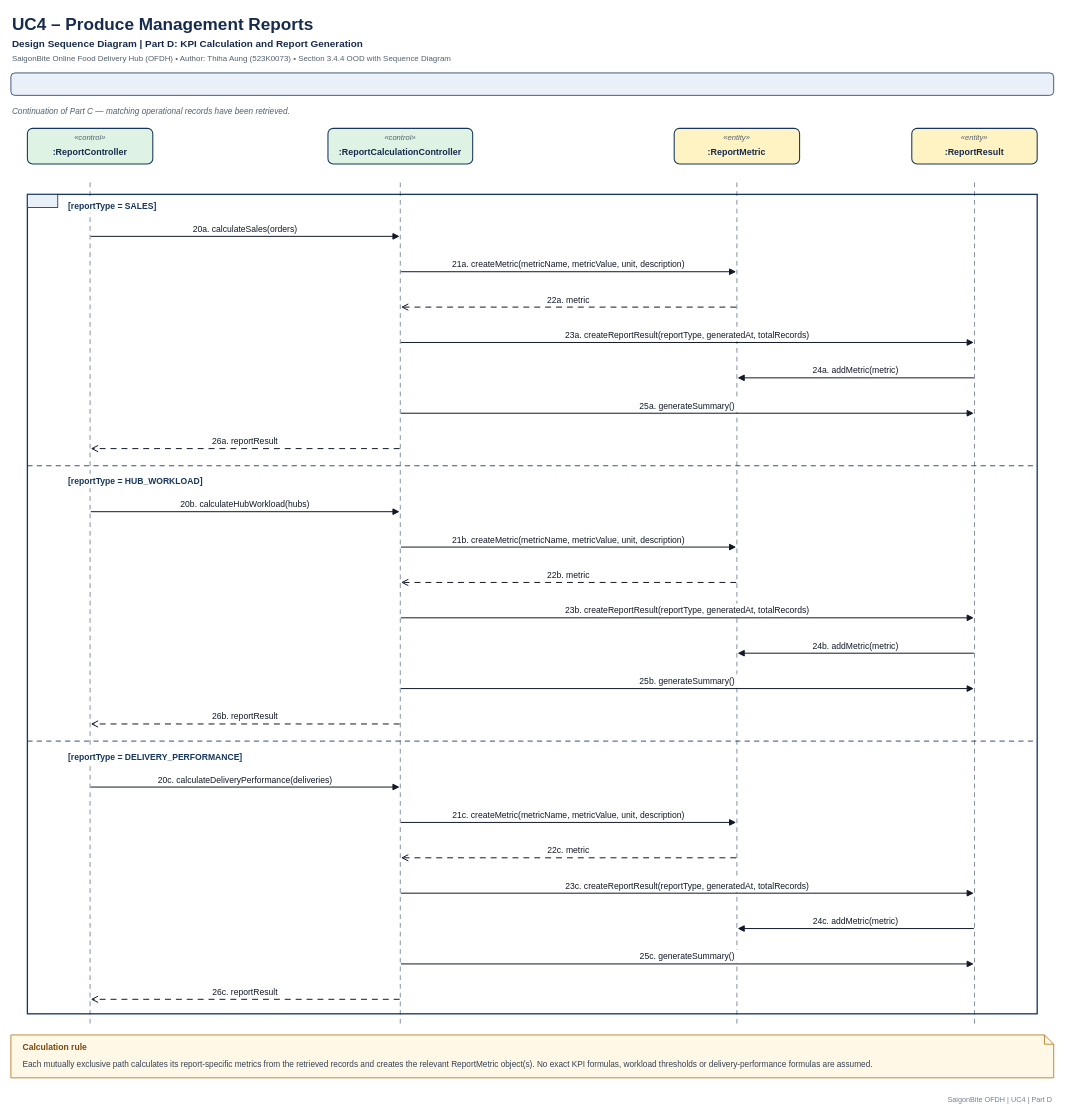
The diagram is 1065 pixels wide and 1117 high, and some of its shapes have lost their labels. The box of each missing label's shape, as (x1, y1, x2, y2) in pixels:
alt: (27, 194, 58, 208)
PART D — KPI Calculation and Report Generation: (10, 72, 1054, 95)
